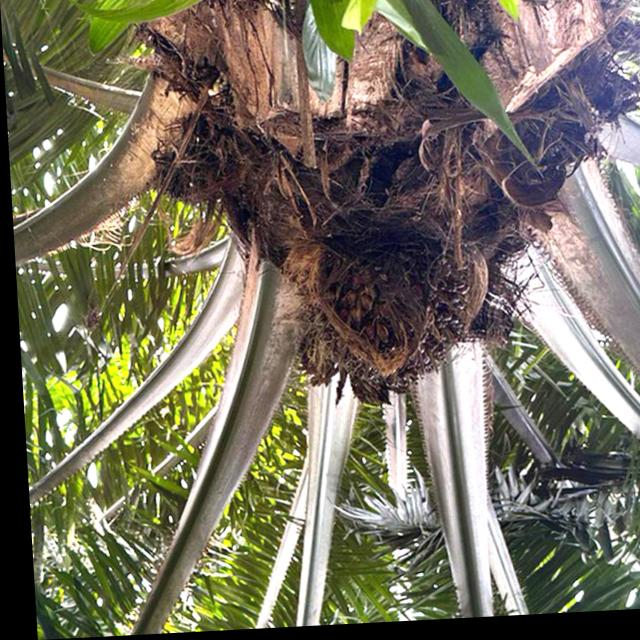ripe: (285, 233, 479, 415)
